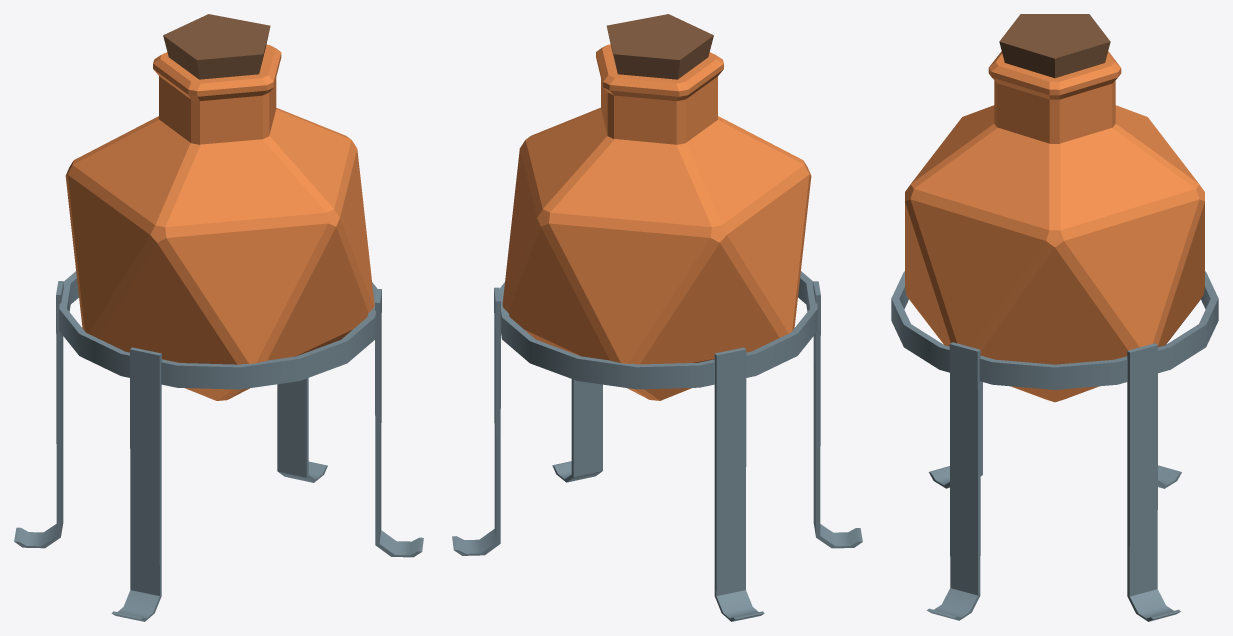
File: Potion_06_Orange.fbx
The picture shows the model from 3 angles, left to right: view 1: azimuth 30°, elevation 25°; view 2: azimuth 150°, elevation 25°; view 3: azimuth 270°, elevation 25°; orthographic projection.
Visible parts, largest first — view 1: Icosphere.003, Cube.017, Cylinder.022, Cylinder.021, Cylinder.023, Cube.018, Cube.019, Cube.016; view 2: Icosphere.003, Cube.019, Cylinder.022, Cylinder.021, Cylinder.023, Cube.016, Cube.017, Cube.018; view 3: Icosphere.003, Cube.018, Cube.016, Cylinder.022, Cylinder.021, Cylinder.023, Cube.017.
Part boxes in pixels (x1,y1,x2,y2): Icosphere.003: [65, 108, 374, 400]; Cube.017: [111, 347, 161, 621]; Cylinder.022: [153, 44, 281, 144]; Cylinder.021: [59, 271, 377, 389]; Cylinder.023: [163, 14, 270, 79]; Cube.018: [277, 378, 327, 482]; Cube.019: [14, 281, 63, 548]; Cube.016: [375, 289, 423, 557]; Icosphere.003: [502, 107, 811, 400]; Cube.019: [714, 347, 764, 621]; Cylinder.022: [596, 44, 723, 144]; Cylinder.021: [499, 271, 817, 389]; Cylinder.023: [606, 14, 713, 79]; Cube.016: [552, 379, 602, 482]; Cube.017: [813, 281, 862, 548]; Cube.018: [452, 287, 500, 555]; Icosphere.003: [905, 105, 1204, 402]; Cube.018: [1127, 343, 1180, 621]; Cube.016: [927, 342, 980, 620]; Cylinder.022: [988, 51, 1121, 143]; Cylinder.021: [891, 271, 1218, 389]; Cylinder.023: [999, 14, 1110, 78]; Cube.017: [929, 381, 982, 488].
Bounding box in the file's own units: 25.27 × 39.03 × 22.52.
